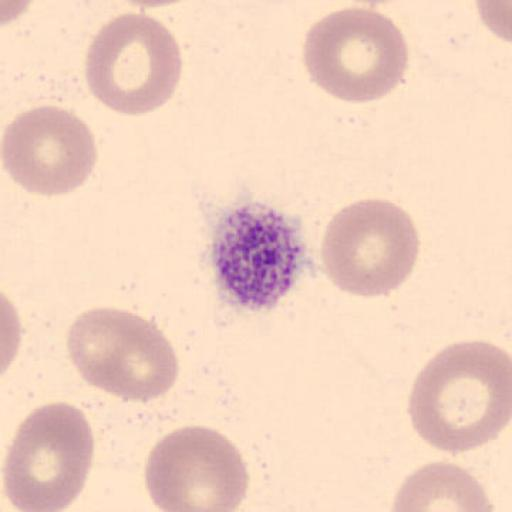Platelet: (206, 197, 317, 316)
RBC: (406, 338, 511, 456), (66, 304, 180, 405), (301, 5, 410, 105), (84, 10, 183, 118), (2, 400, 96, 512), (320, 196, 421, 300), (142, 423, 250, 512), (2, 105, 99, 198), (389, 460, 496, 512), (0, 288, 23, 384), (473, 0, 512, 42), (1, 0, 35, 28), (112, 0, 198, 8)
